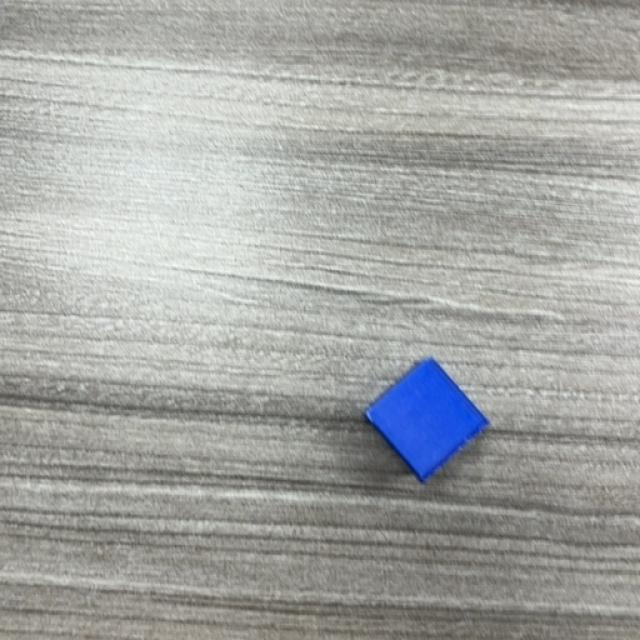Azul: (362, 359, 491, 486)
